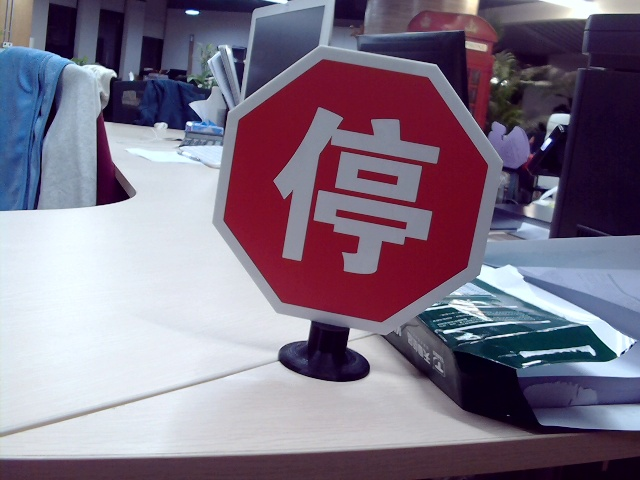stop: (278, 101, 436, 271)
